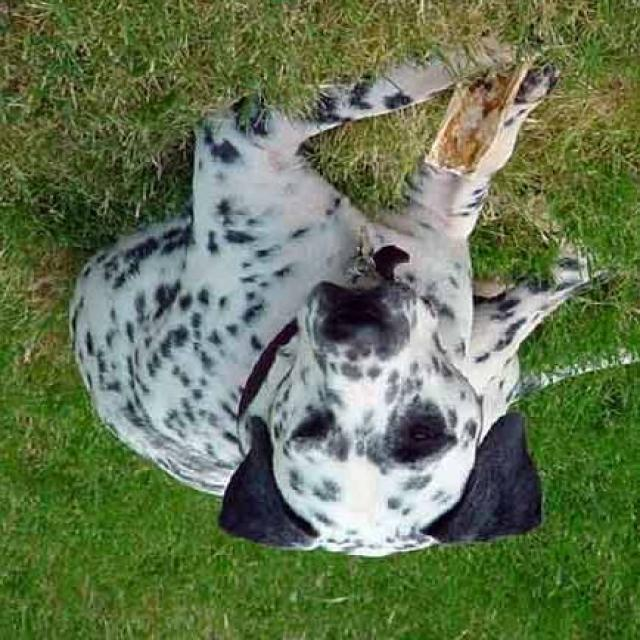dog: (34, 33, 640, 583)
